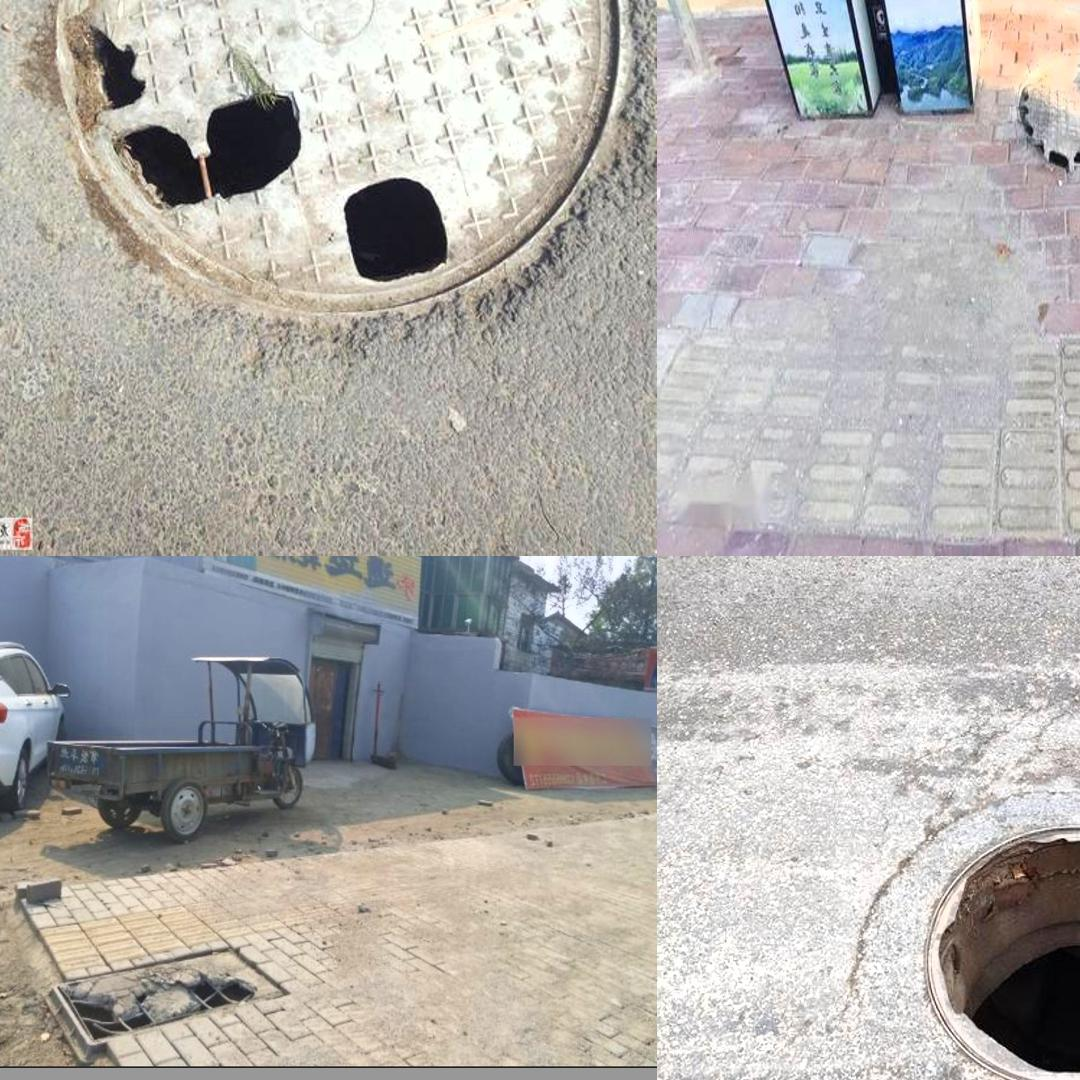broke: (12, 0, 632, 338), (837, 786, 1080, 1080), (47, 945, 290, 1062), (995, 25, 1080, 215)
